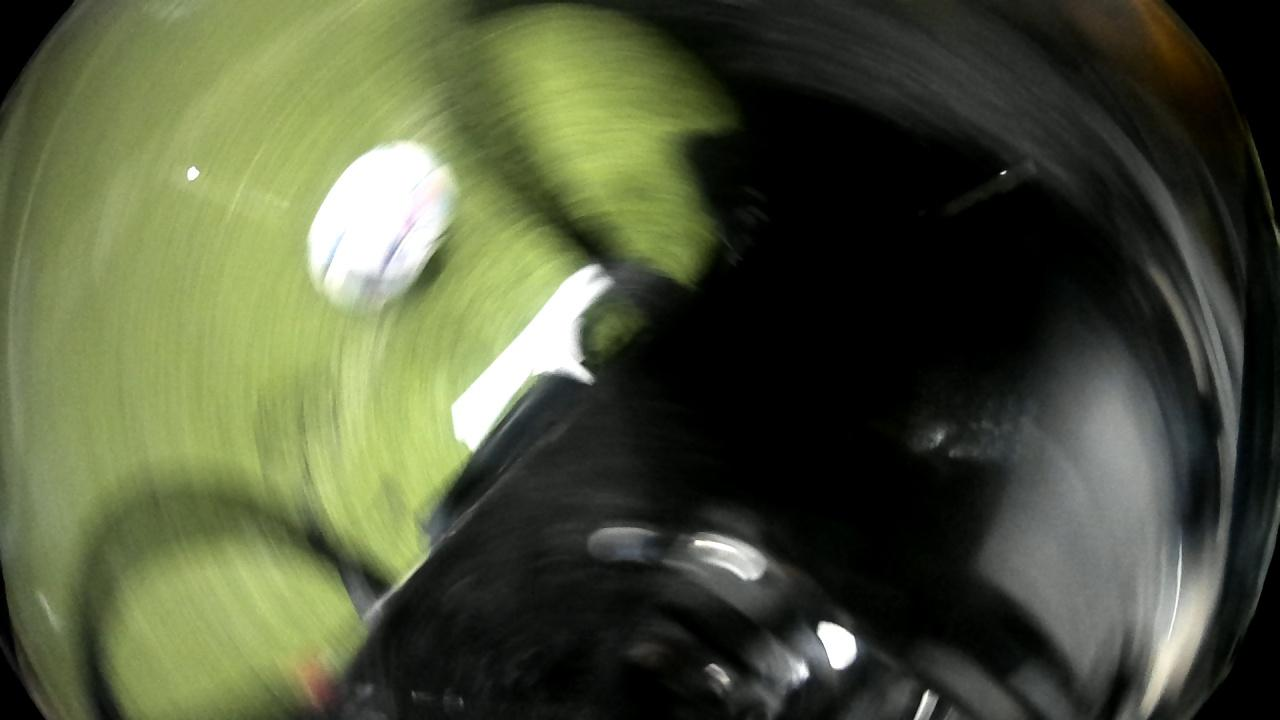ball: (300, 130, 463, 333)
